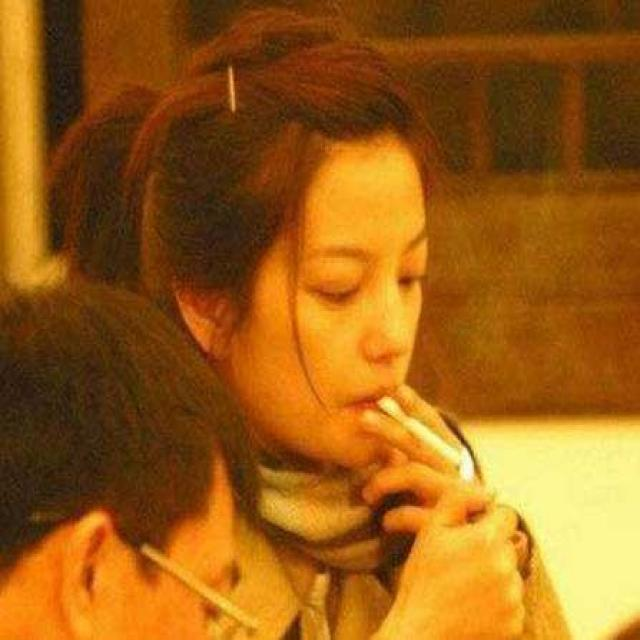Smooking: (377, 379, 468, 478)
